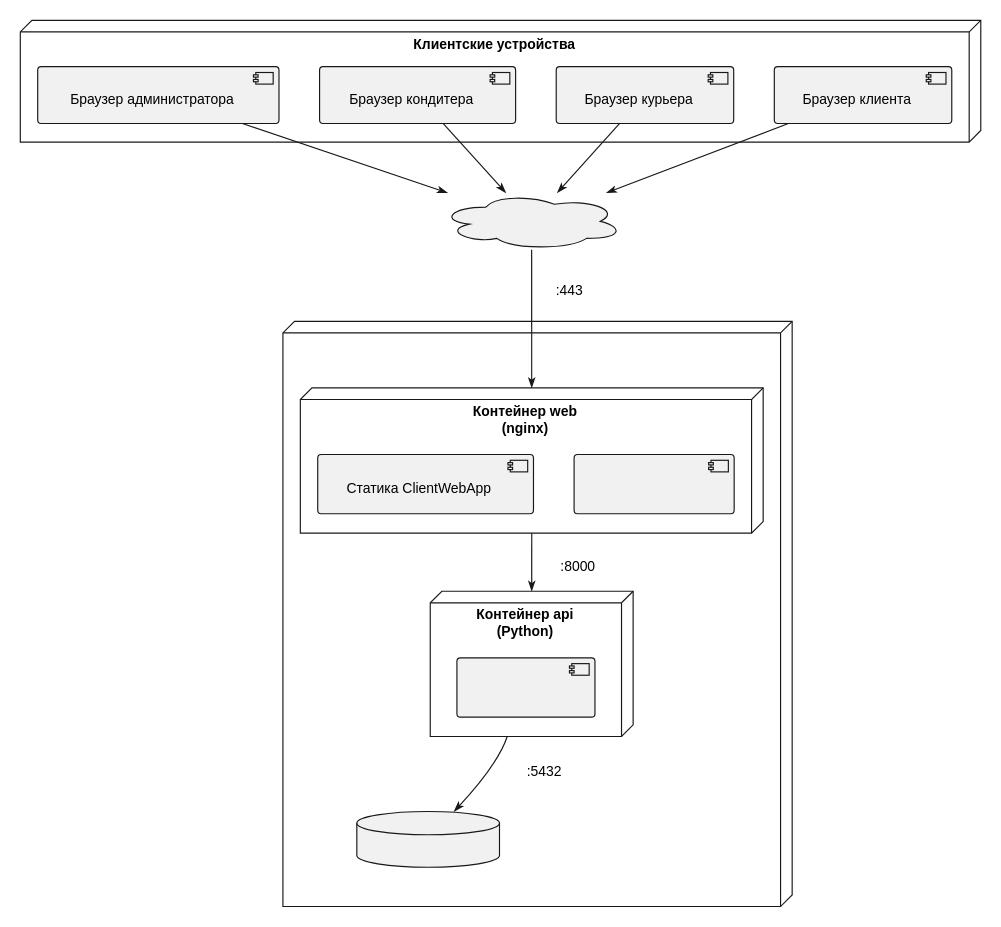
The diagram is 1001 pixels wide and 927 high, and some of its shapes have lost their labels. The centre of each missing label's shape, as x and y in pixels:
Backend API: point 525,687
Reverse Proxy: point 653,483
Интернет / HTTPS: point 531,221
Контейнер db (PostgreSQL 16): point 427,838
